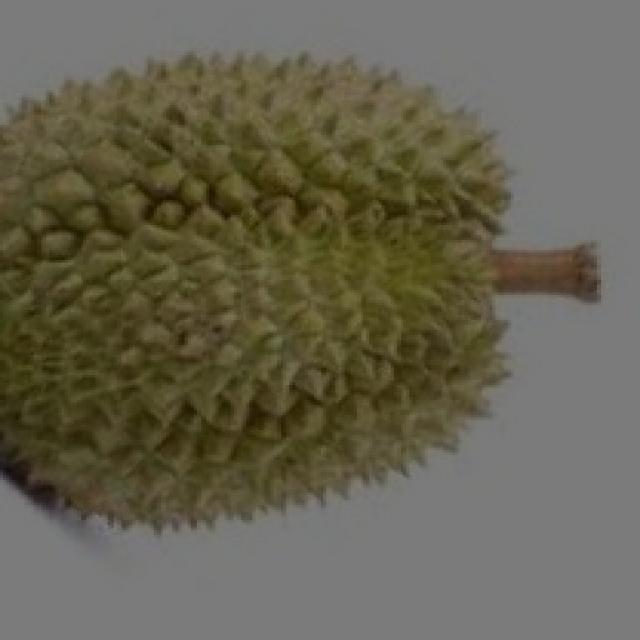fruit: (157, 188, 588, 590), (0, 207, 348, 595)
